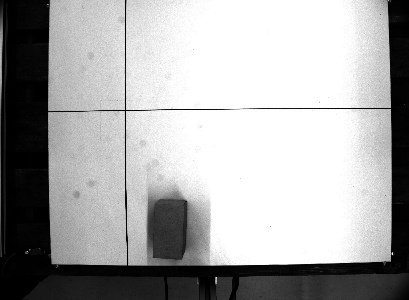b2: (150, 197, 188, 260)
